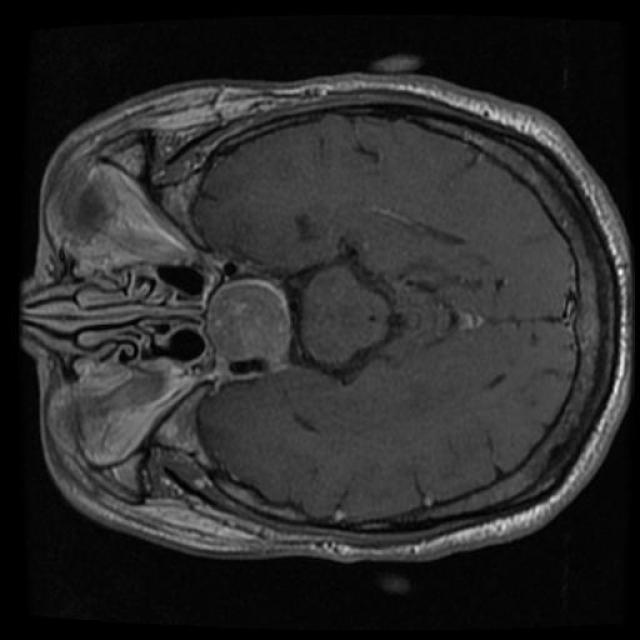Pituitary: (205, 262, 292, 389)
